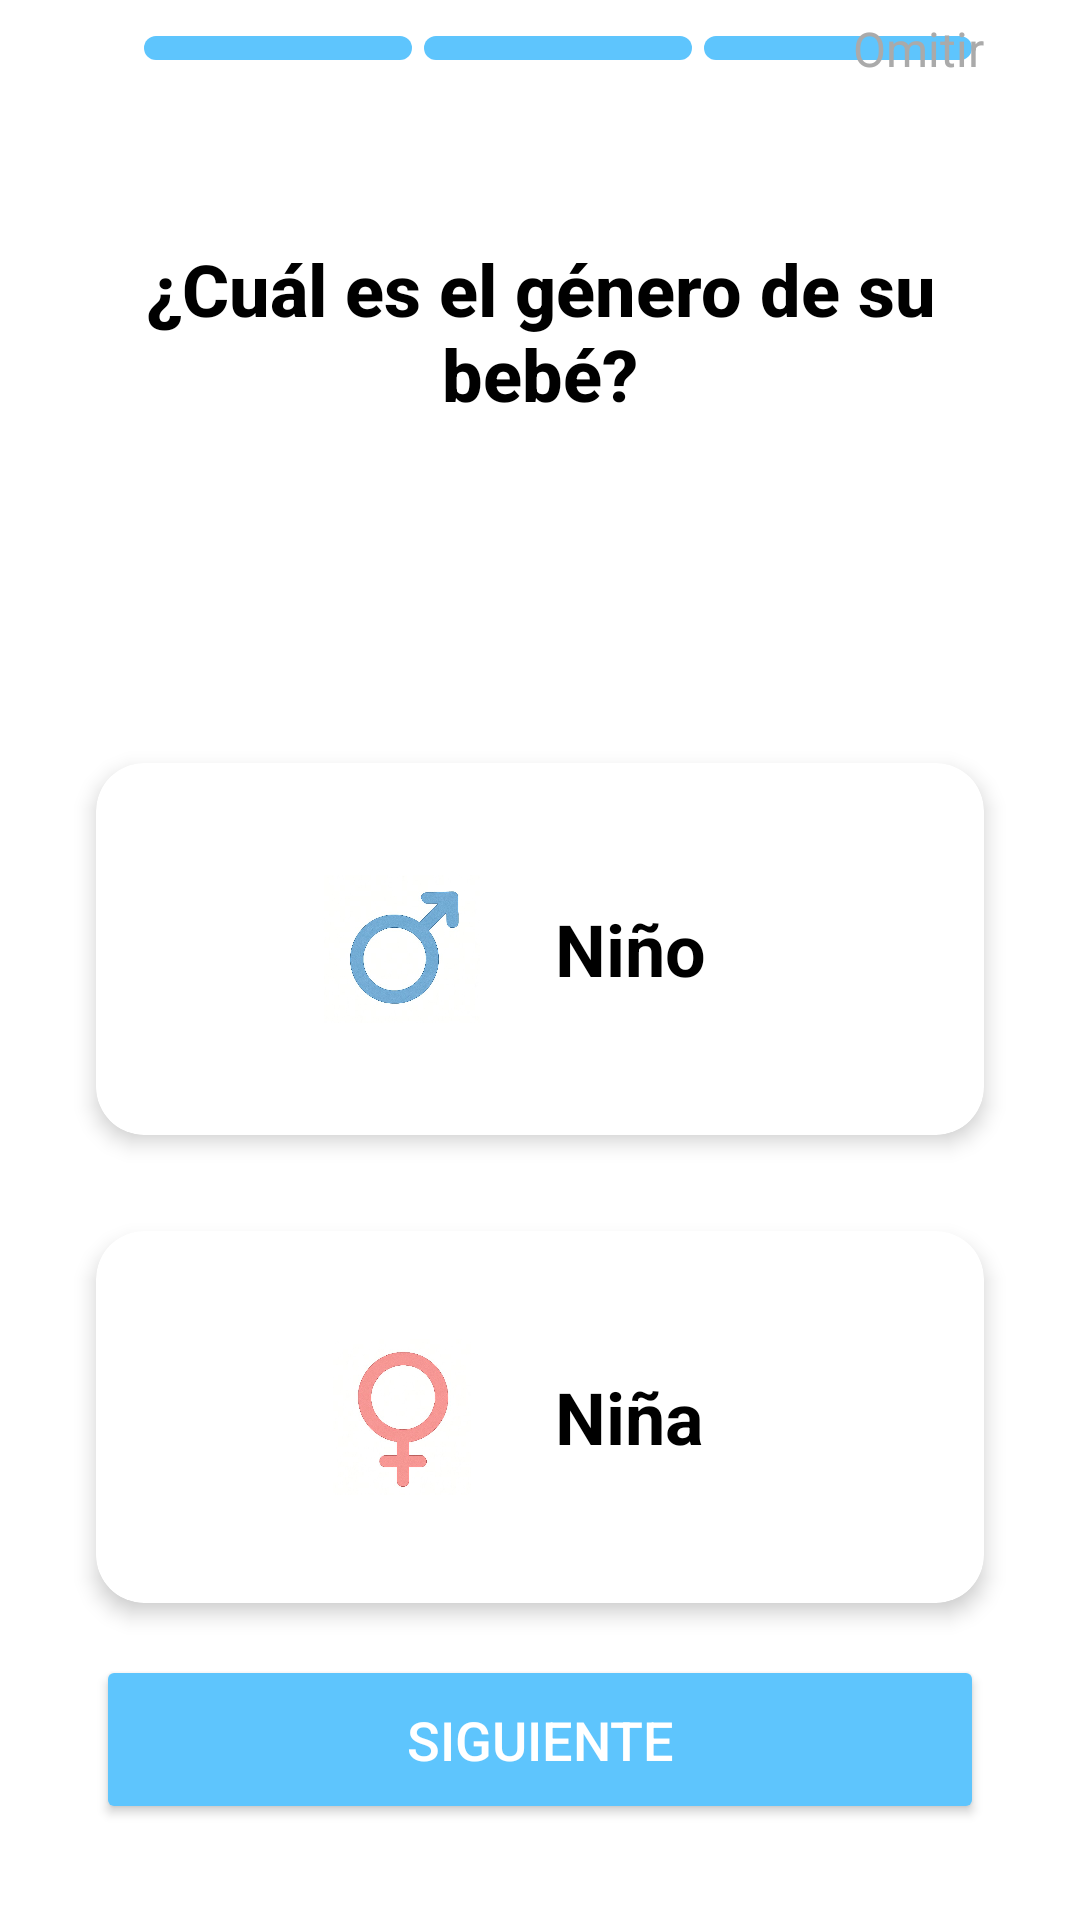

Where icons sit on this 1080 x 1920 app screen, as [x1=x1, y1=y1, x2=x2, y2=y2]:
hombre: [x1=350, y1=891, x2=459, y2=1004]
mujer: [x1=358, y1=1352, x2=448, y2=1487]
